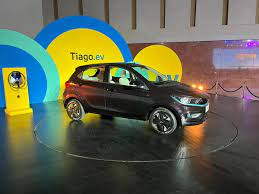Tiago: (61, 63, 209, 138)
